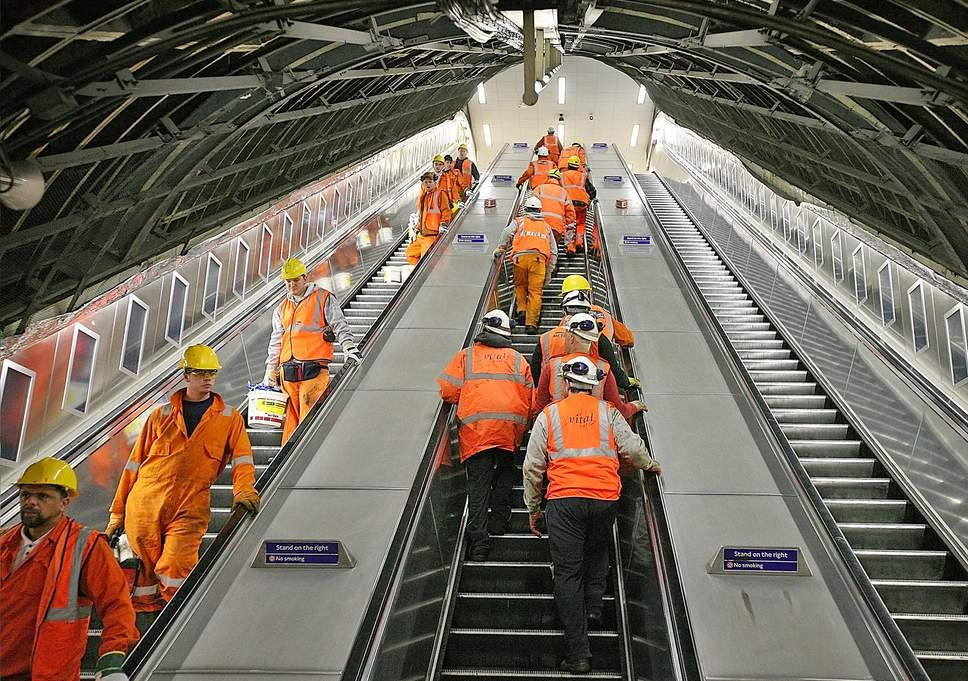none: (444, 153, 454, 170)
white: (563, 311, 599, 351), (562, 355, 597, 396), (478, 306, 511, 343), (560, 290, 592, 317), (522, 196, 543, 216), (536, 146, 549, 160), (546, 126, 556, 136)
yellow: (13, 460, 77, 528), (179, 343, 221, 395), (279, 257, 309, 297), (561, 273, 589, 298), (420, 171, 436, 191), (567, 154, 581, 170), (432, 154, 444, 172), (547, 169, 561, 183), (457, 143, 468, 159)
